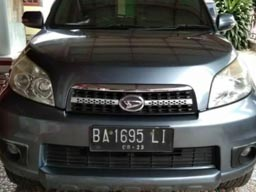plat: (90, 127, 172, 144)
